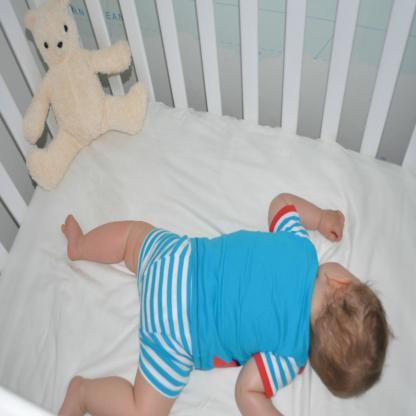baby: (56, 192, 390, 416)
